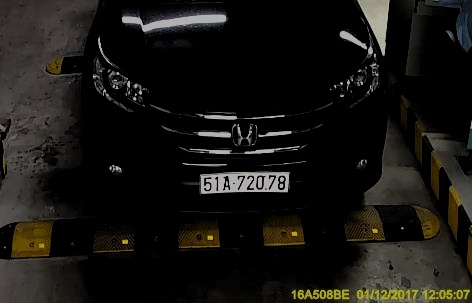plate: (199, 171, 291, 197)
